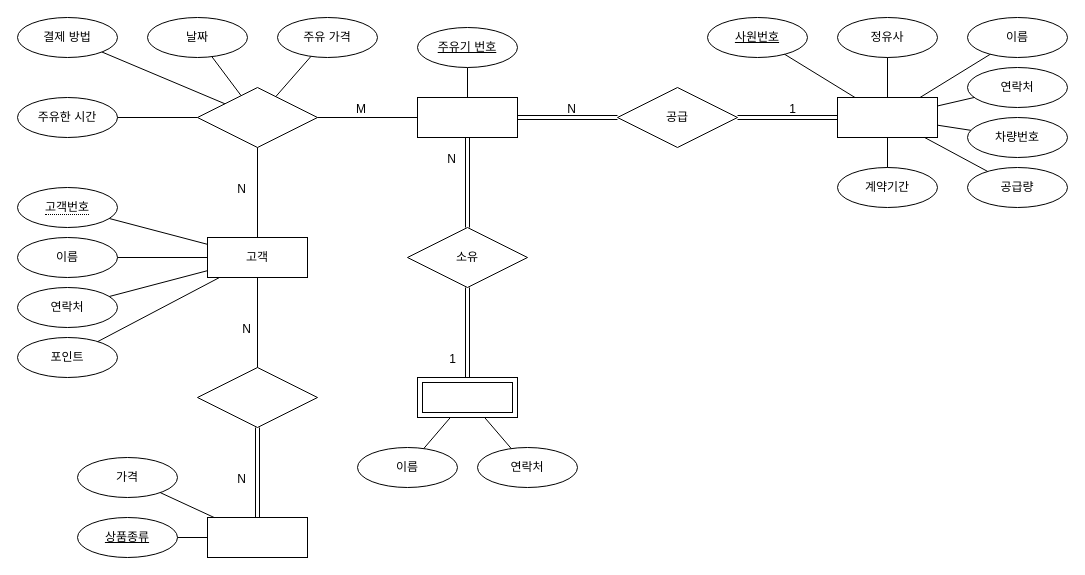
This 1085x575 diagram has some shape labels left out. The centre of each missing label's shape, as x and y in pixels:
"공급자" belongs at [887,117].
"구매" belongs at [257,397].
"사은품" belongs at [257,537].
"주유" belongs at [257,117].
"주유기" belongs at [467,117].
"주유기 소유자" belongs at [467,397].
